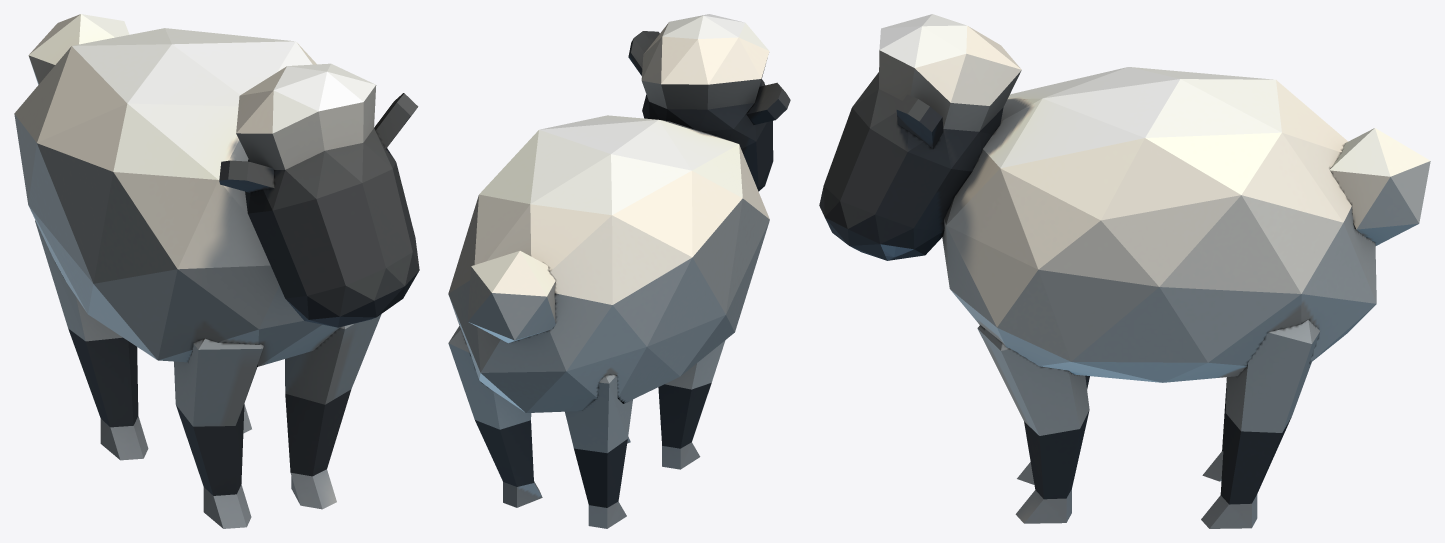
File: PUSHILIN_sheep.obj
The picture shows the model from 3 angles, left to right: view 1: azimuth 30°, elevation 25°; view 2: azimuth 150°, elevation 25°; view 3: azimuth 270°, elevation 25°; orthographic projection. The views are drawn at different scales.
Parts seen in each view (by area): view 1: sheep; view 2: sheep; view 3: sheep.
Boxes of the visible parts, left/top/right/bottom form: sheep: left=14, top=14, right=419, bottom=528; sheep: left=448, top=14, right=790, bottom=528; sheep: left=819, top=14, right=1430, bottom=528.
Bounding box in the file's own units: 0.9709 × 1.6 × 1.89.
Materials: 1 (1 with a texture image).
